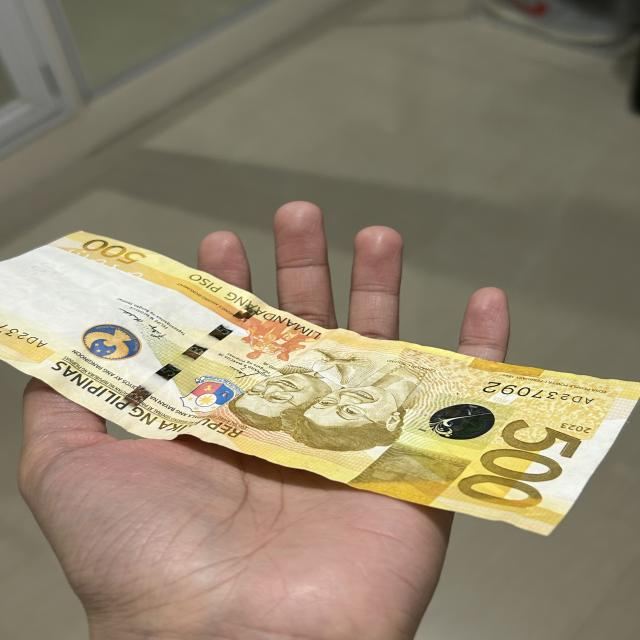concealed_value: (371, 441, 451, 507)
optically_variable_device: (427, 400, 495, 440)
security_thread: (110, 303, 257, 406)
see_through_mark: (63, 245, 144, 288)
serial_number: (477, 376, 594, 408)
value: (463, 418, 579, 509)
